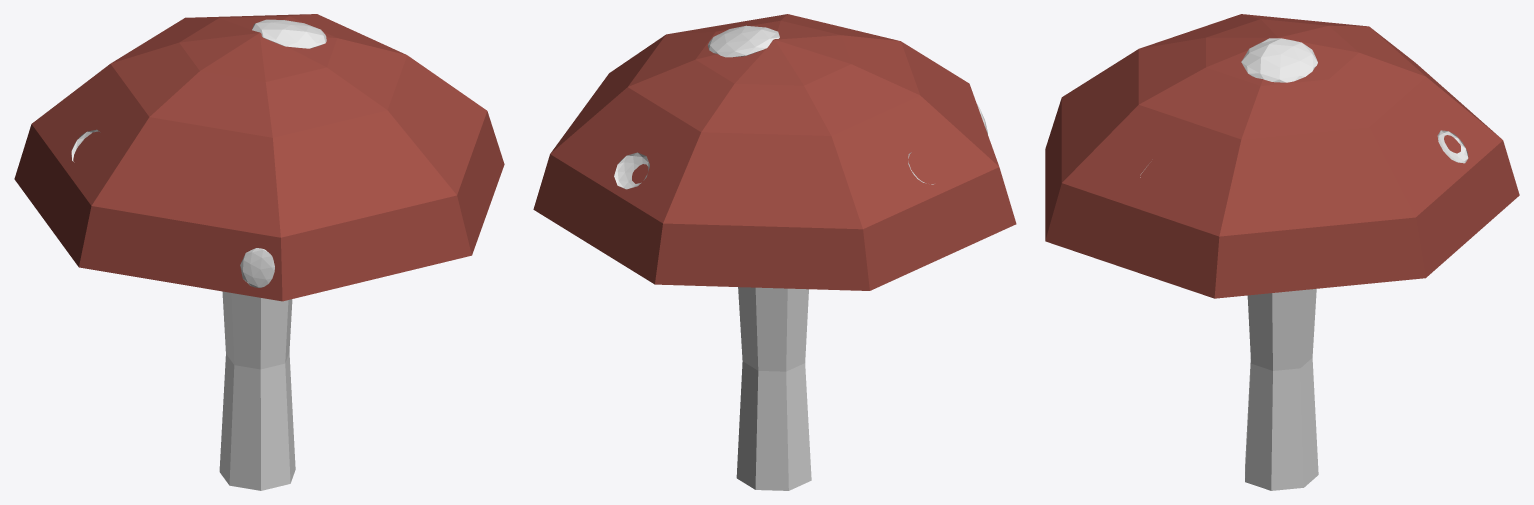
Rendered from Mushroom.glb.
3 renders of one model, left to right at view 1: azimuth 30°, elevation 25°; view 2: azimuth 150°, elevation 25°; view 3: azimuth 270°, elevation 25°, orthographic.
Parts seen in each view (by area): view 1: Icosphere; view 2: Icosphere; view 3: Icosphere.
Part boxes in pixels (x1,y1,x2,y2): Icosphere: (14, 14, 504, 490); Icosphere: (533, 14, 1016, 490); Icosphere: (1045, 14, 1519, 490).
Bounding box in the file's own units: 0.7057 × 0.7039 × 0.688.
